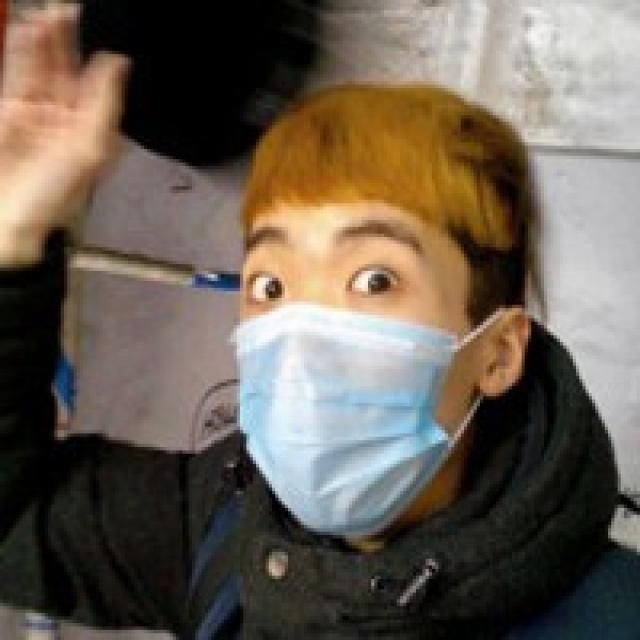mask: (232, 164, 472, 520)
